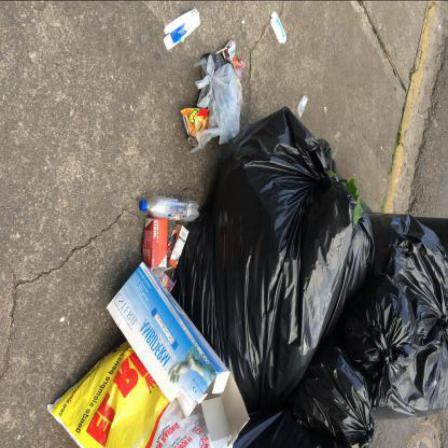Bottle: (140, 197, 200, 223)
Bottle cap: (141, 201, 148, 213)
Carton: (107, 263, 251, 448), (143, 219, 169, 279), (165, 9, 202, 51), (222, 42, 248, 80), (169, 226, 191, 270), (271, 12, 287, 44), (160, 273, 176, 293)
Plastic bag - wrapper: (175, 107, 375, 417), (48, 341, 234, 448), (367, 213, 448, 420), (338, 273, 420, 408), (291, 343, 377, 448), (195, 54, 244, 150), (181, 108, 211, 150), (297, 96, 309, 119)
Pop tab: (325, 107, 327, 113)
Straw: (216, 49, 229, 55), (167, 268, 175, 272)
